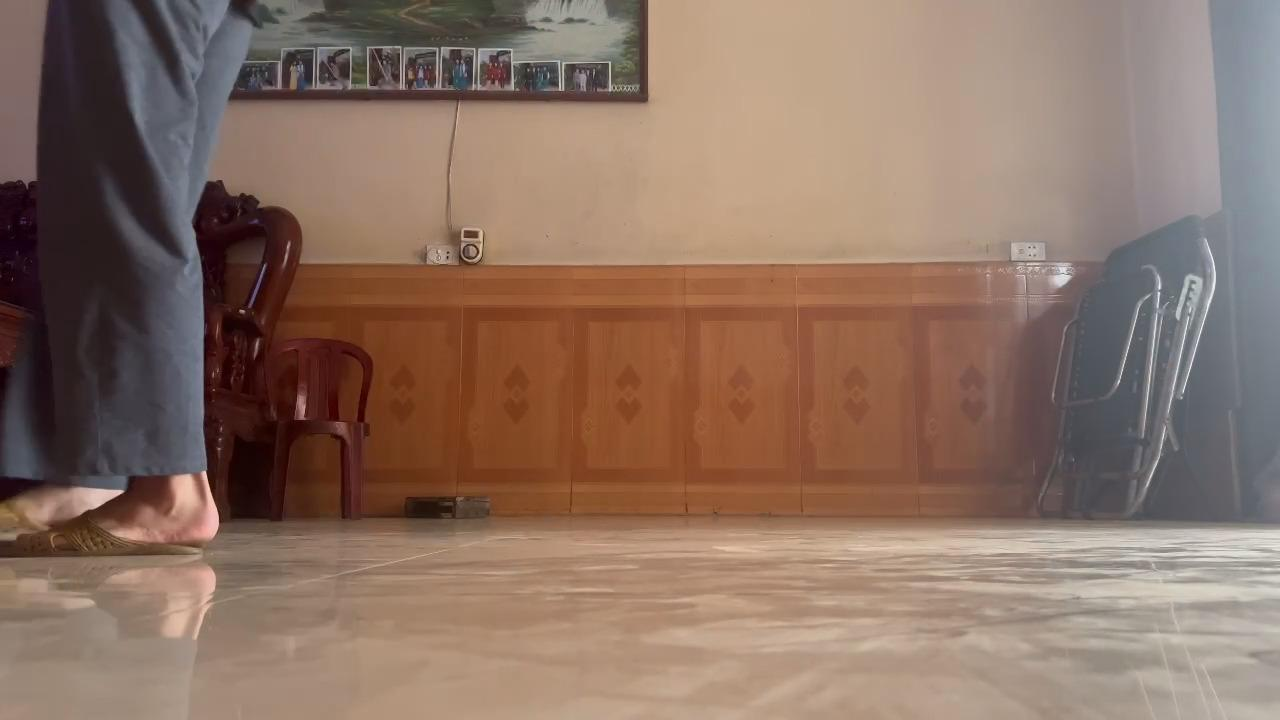no-boot: (0, 483, 243, 567)
